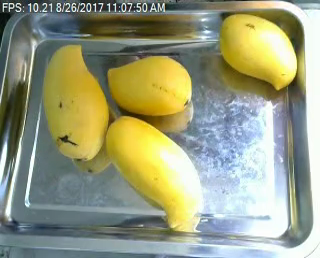Mango: (103, 113, 201, 228), (38, 43, 111, 159), (218, 12, 299, 91), (105, 55, 196, 118)
